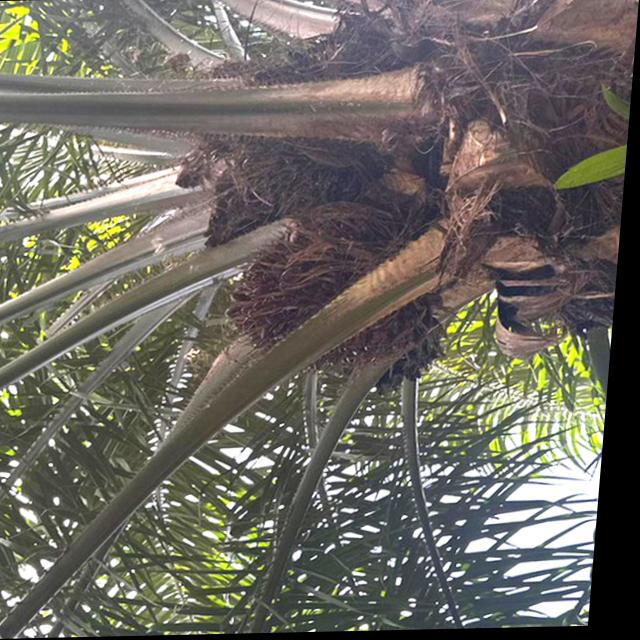ripe: (216, 205, 422, 371)
